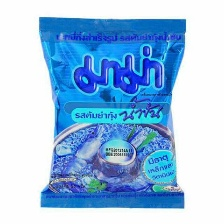snack: (25, 6, 195, 214)
